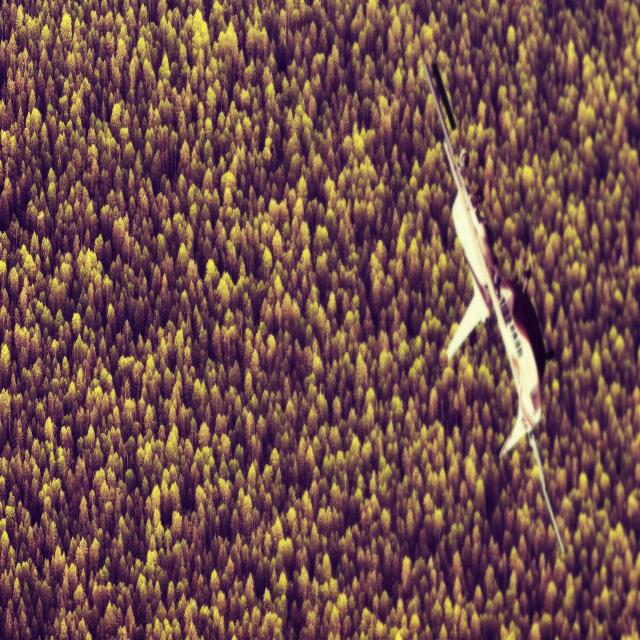airplane: (422, 59, 565, 556)
